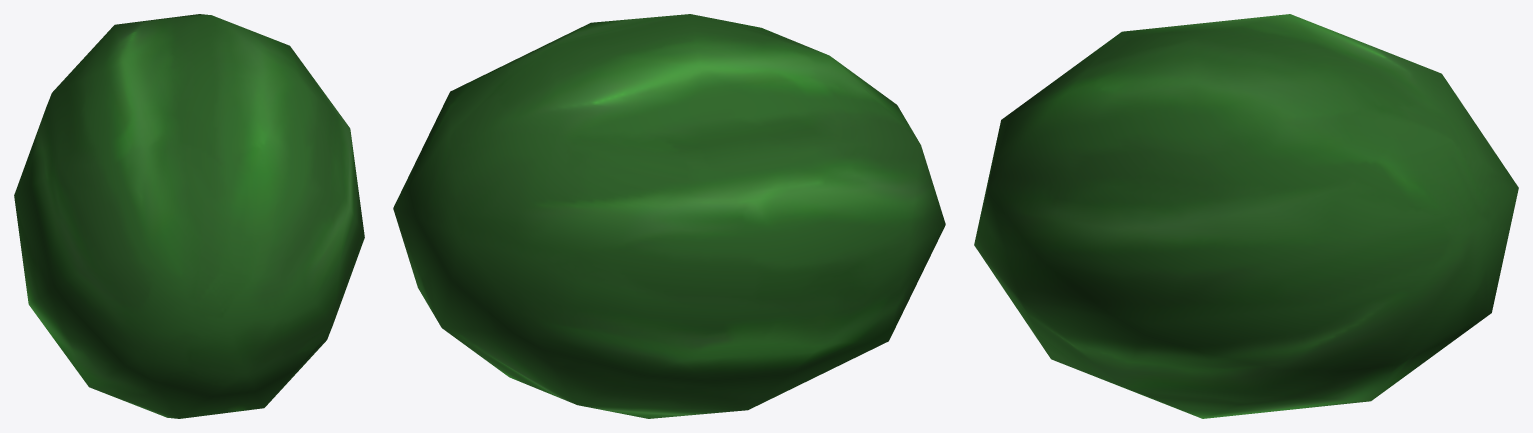
Rendered from fridge.fbx.
3 views of the same model, side by side, from view 1: azimuth 30°, elevation 25°; view 2: azimuth 150°, elevation 25°; view 3: azimuth 270°, elevation 25° (orthographic). The views are drawn at different scales.
Visible parts, largest first — view 1: Cube.006; view 2: Cube.006; view 3: Cube.006.
Part boxes in pixels (x1,y1,x2,y2): Cube.006: [14, 14, 364, 418]; Cube.006: [393, 14, 945, 418]; Cube.006: [974, 14, 1518, 418].
Bounding box in the file's own units: 51.71 × 45.34 × 61.03.
